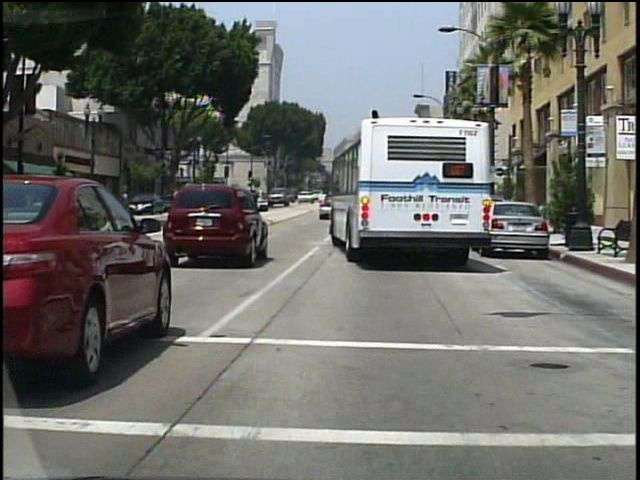person: (484, 180, 497, 224)
